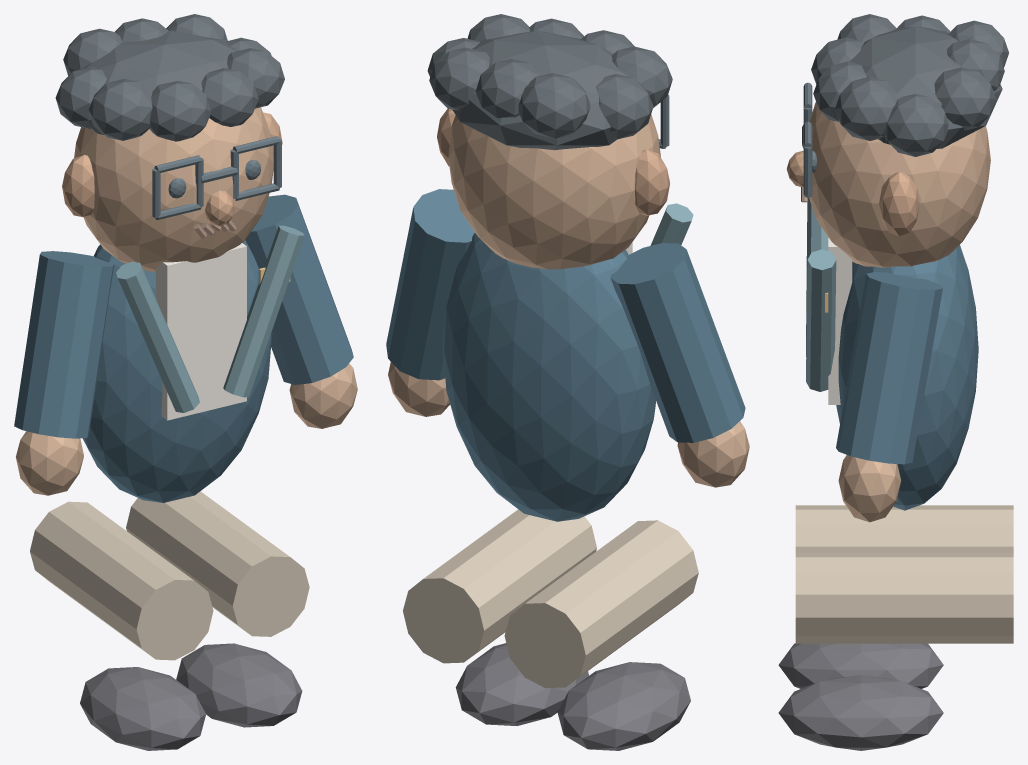
The model's file is gestor-mentor-prototipo.glb.
The picture shows the model from 3 angles, left to right: view 1: azimuth 30°, elevation 25°; view 2: azimuth 150°, elevation 25°; view 3: azimuth 270°, elevation 25°; orthographic projection. The views are drawn at different scales.
Parts seen in each view (by area): view 1: jacket_torso, head, leg_l, leg_r, arm_l, shirt, arm_r, shoe_l, shoe_r, hairbase, lapel_r, lapel_l (+12 smaller); view 2: jacket_torso, head, leg_l, leg_r, arm_l, arm_r, shoe_l, hairbase, shoe_r, curl_1, hand_l, curl_0 (+10 smaller); view 3: leg_r, head, arm_r, jacket_torso, leg_l, shoe_r, shoe_l, hairbase, lapel_r, hand_r, curl_4, curl_8 (+12 smaller).
Boxes of the visible parts, <box> form: jacket_torso: <box>82,240,271,502</box>; head: <box>74,107,273,272</box>; leg_l: <box>30,501,213,660</box>; leg_r: <box>126,491,309,636</box>; arm_l: <box>14,251,114,438</box>; shirt: <box>155,243,246,420</box>; arm_r: <box>245,194,353,384</box>; shoe_l: <box>80,667,205,750</box>; shoe_r: <box>176,643,302,727</box>; hairbase: <box>82,30,237,134</box>; lapel_r: <box>223,225,304,397</box>; lapel_l: <box>116,261,199,412</box>; jacket_torso: <box>442,233,655,521</box>; head: <box>448,114,660,269</box>; leg_l: <box>504,520,698,688</box>; leg_r: <box>403,509,596,663</box>; arm_l: <box>610,243,745,442</box>; arm_r: <box>386,189,474,380</box>; shoe_l: <box>557,662,690,750</box>; hairbase: <box>452,30,627,150</box>; shoe_r: <box>455,643,588,725</box>; curl_1: <box>518,73,590,138</box>; hand_l: <box>677,421,749,487</box>; curl_0: <box>596,74,653,139</box>; leg_r: <box>795,553,1013,643</box>; head: <box>809,102,990,267</box>; arm_r: <box>836,272,942,464</box>; jacket_torso: <box>836,245,978,510</box>; leg_l: <box>795,505,1013,553</box>; shoe_r: <box>778,675,943,750</box>; shoe_l: <box>778,643,943,688</box>; hairbase: <box>849,26,1002,148</box>; lapel_r: <box>806,249,836,391</box>; hand_r: <box>838,455,900,522</box>; curl_4: <box>884,94,948,156</box>; curl_8: <box>835,76,897,140</box>.
Bounding box in the file's own units: 0.906 × 1.72 × 0.54.
